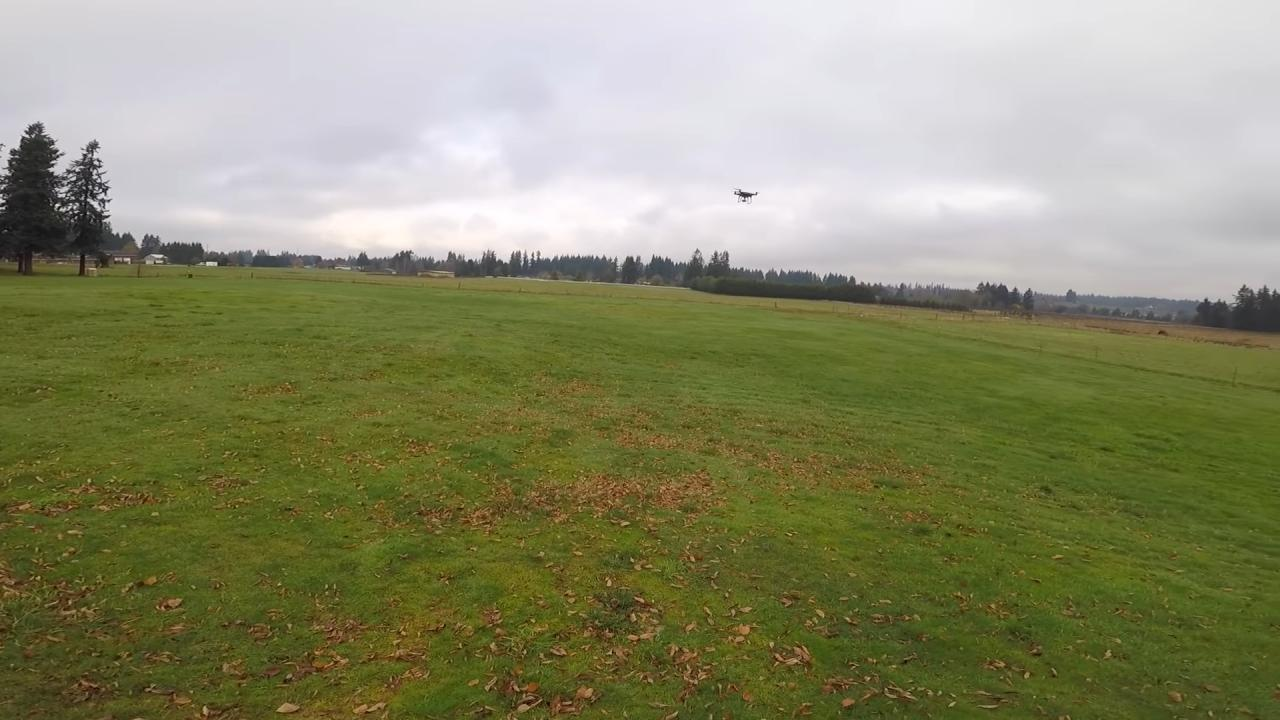Drone: (727, 183, 765, 212)
